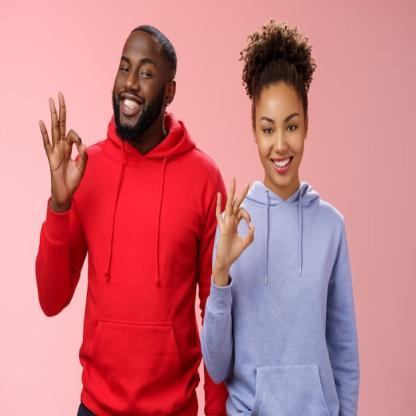ok: (38, 89, 90, 204), (216, 174, 256, 274)
